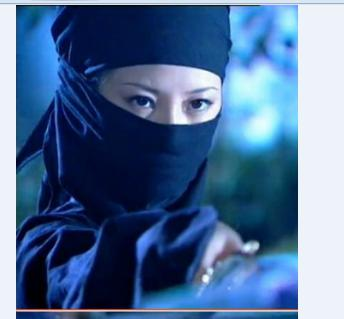OK: (102, 77, 222, 197)
